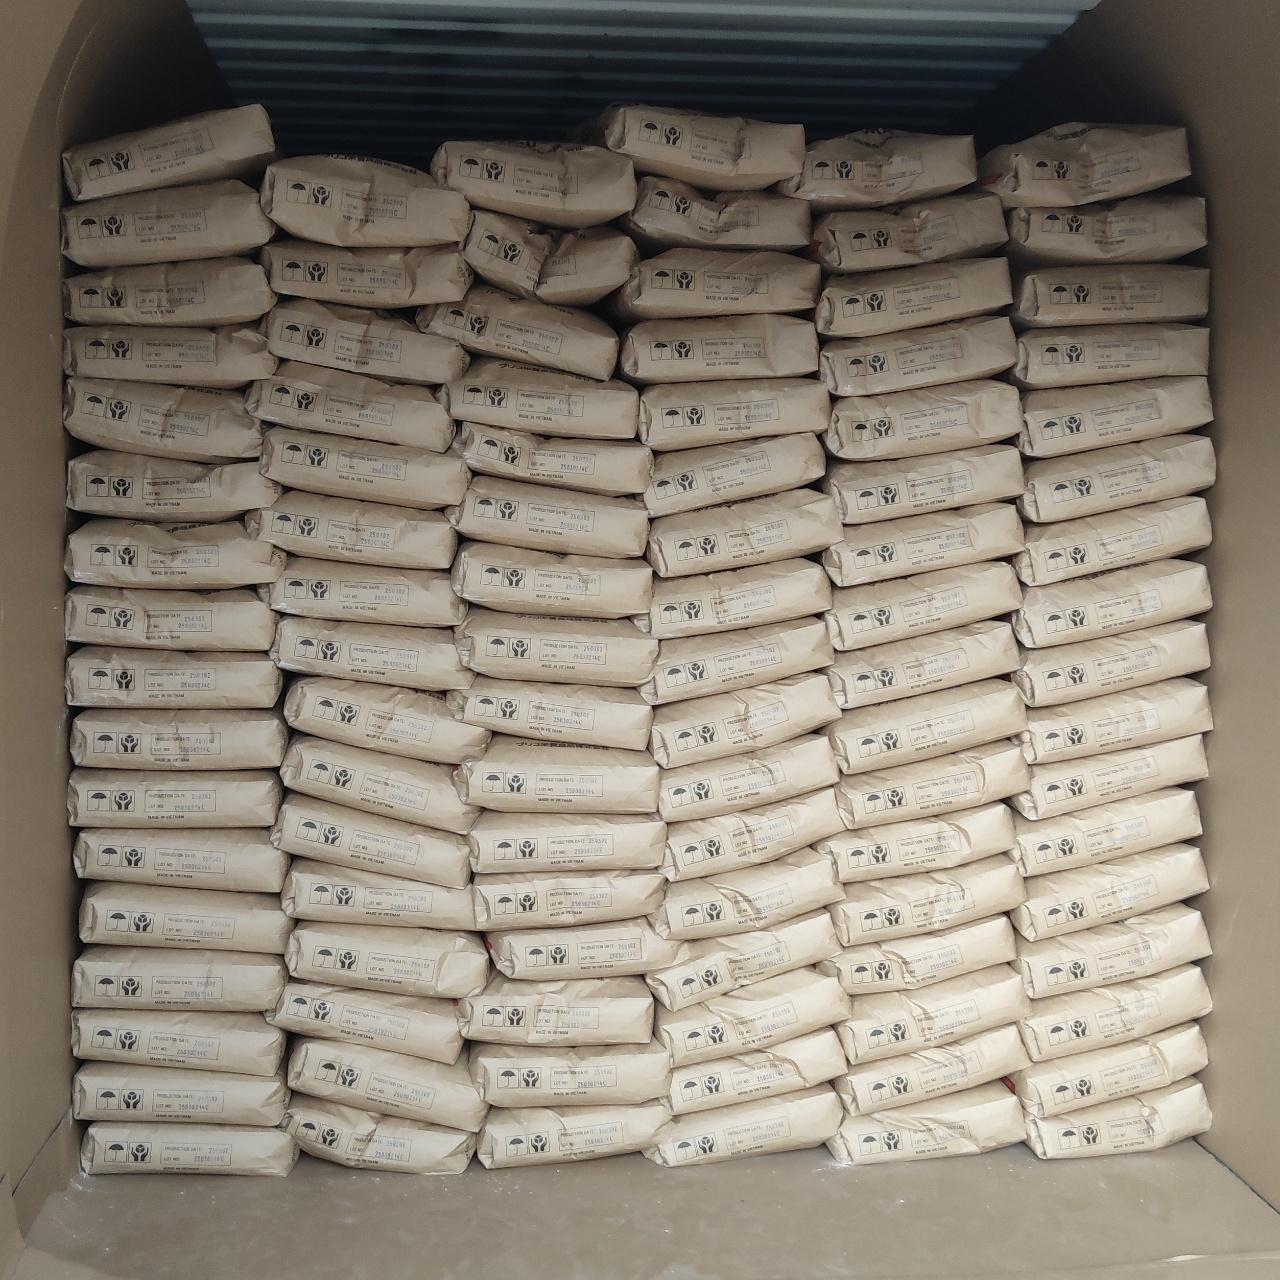sack: (63, 105, 274, 200), (281, 734, 478, 834), (415, 284, 618, 380), (1011, 843, 1208, 941), (646, 910, 839, 1010), (657, 967, 849, 1066), (827, 679, 1026, 774), (1011, 1022, 1207, 1118), (262, 156, 467, 247), (289, 1038, 487, 1132), (270, 793, 468, 887), (62, 180, 275, 267), (1019, 965, 1212, 1061), (247, 361, 452, 451), (839, 966, 1029, 1063), (1015, 903, 1209, 998), (977, 122, 1190, 208), (589, 106, 804, 190), (652, 673, 842, 768), (432, 141, 636, 229), (647, 847, 841, 939), (1012, 559, 1212, 648), (837, 1024, 1030, 1116), (284, 677, 490, 763), (825, 561, 1022, 650), (1014, 496, 1210, 585), (262, 300, 469, 384), (1011, 620, 1210, 707), (838, 738, 1030, 828), (638, 617, 832, 706), (1021, 434, 1215, 523), (648, 488, 841, 577), (830, 857, 1024, 945), (1010, 787, 1201, 876), (827, 620, 1020, 708), (1020, 676, 1212, 764), (1012, 734, 1207, 820), (260, 427, 467, 508), (463, 209, 639, 304), (825, 1081, 1026, 1164), (63, 375, 259, 460), (660, 788, 838, 881), (245, 490, 456, 568), (822, 504, 1022, 586), (446, 476, 647, 557), (820, 444, 1023, 524), (644, 1084, 841, 1166), (633, 557, 830, 639), (266, 981, 462, 1063), (824, 380, 1021, 461), (437, 359, 637, 438), (64, 518, 286, 589), (285, 921, 489, 998), (779, 131, 975, 211), (811, 193, 1007, 273), (815, 257, 1011, 337), (659, 734, 839, 821), (455, 608, 657, 685), (610, 248, 820, 322), (281, 1092, 475, 1172), (820, 317, 1016, 396), (818, 802, 1014, 881), (1021, 376, 1212, 457), (270, 616, 473, 691), (641, 433, 824, 516), (669, 1029, 845, 1115), (451, 542, 652, 617), (80, 882, 292, 953), (255, 554, 464, 626), (446, 676, 652, 749), (455, 738, 658, 812), (260, 238, 472, 308), (820, 917, 1015, 993), (1026, 1078, 1211, 1158), (64, 257, 275, 326), (451, 422, 652, 494), (68, 450, 280, 518), (621, 176, 810, 252), (458, 972, 653, 1045), (72, 1008, 283, 1075), (1007, 195, 1207, 265), (72, 946, 287, 1011), (620, 314, 818, 384), (640, 378, 829, 451), (65, 585, 274, 650), (72, 1062, 287, 1125), (74, 829, 287, 892), (282, 859, 475, 928), (66, 646, 283, 707), (472, 1039, 668, 1106), (63, 326, 276, 387), (478, 1101, 671, 1167), (70, 709, 287, 767), (68, 768, 281, 827), (1010, 264, 1208, 327), (1013, 324, 1207, 388), (465, 813, 667, 873), (487, 917, 681, 979), (81, 1121, 298, 1176), (475, 872, 665, 929)
